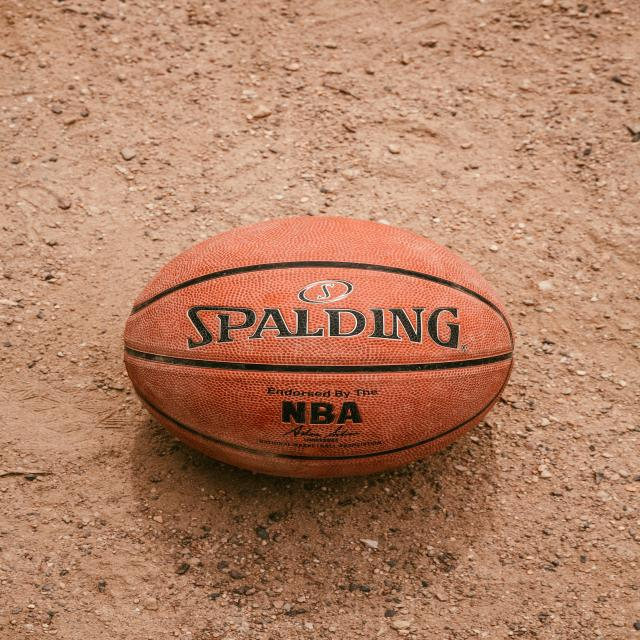Basketball: (124, 216, 514, 478)
